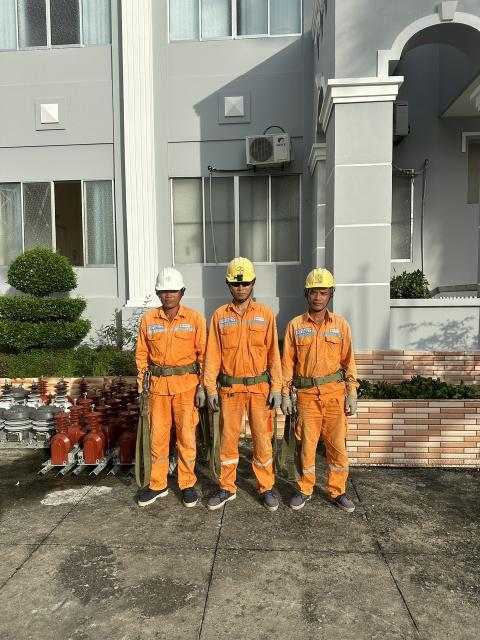gloves: (276, 391, 302, 418), (191, 389, 209, 416), (205, 389, 226, 412), (341, 393, 358, 418), (261, 393, 282, 410)
harness: (208, 359, 277, 396), (136, 349, 207, 383), (278, 366, 355, 388)
helmet: (206, 256, 266, 293), (297, 267, 336, 303), (141, 266, 184, 286)
shoes: (328, 486, 360, 522), (133, 483, 174, 509), (281, 479, 313, 512), (203, 485, 234, 512), (259, 482, 284, 513), (176, 482, 200, 508)
